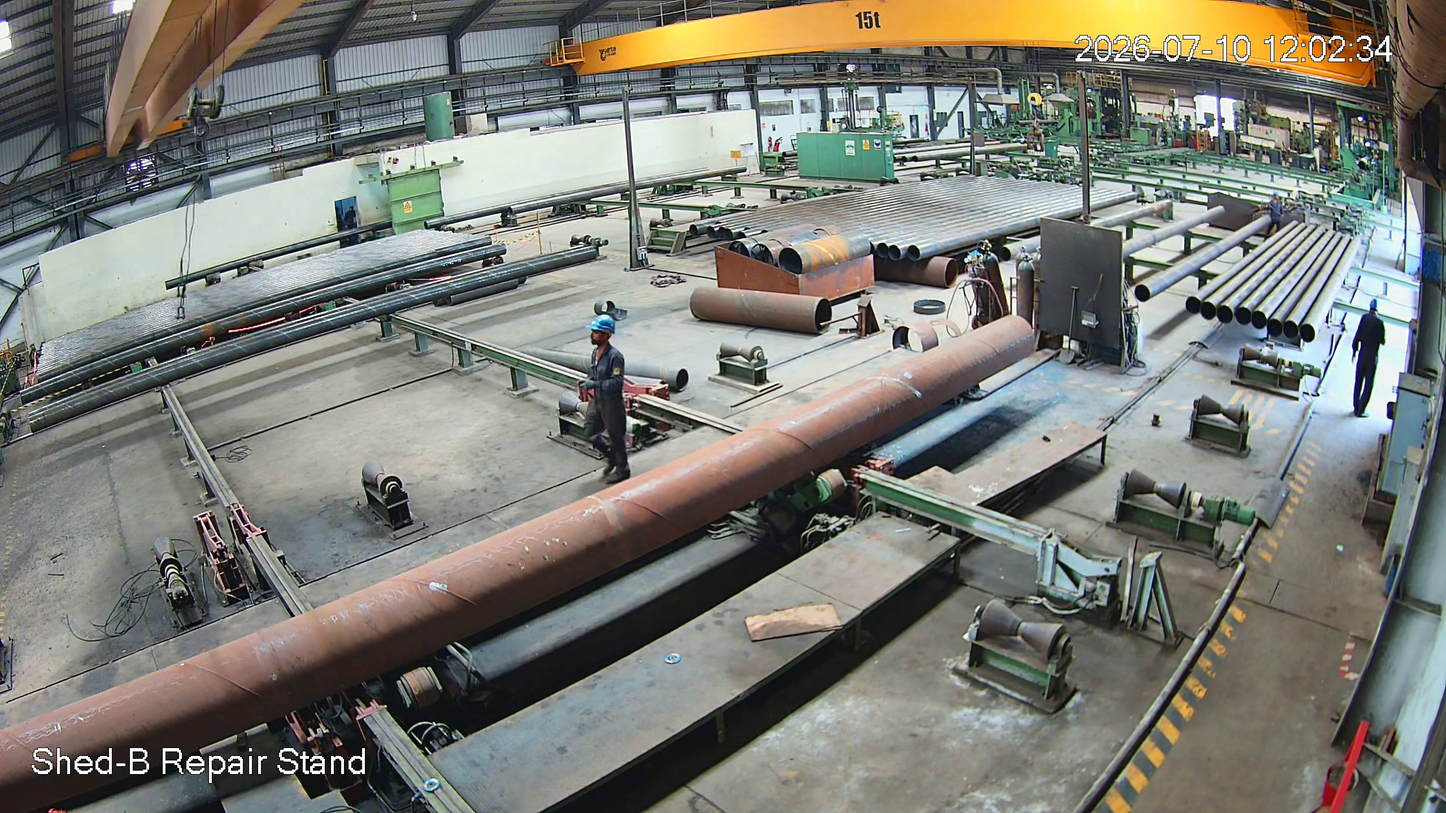Helmet: (583, 314, 618, 350), (1367, 296, 1383, 324)
Person: (577, 320, 634, 482), (1344, 297, 1392, 424)
